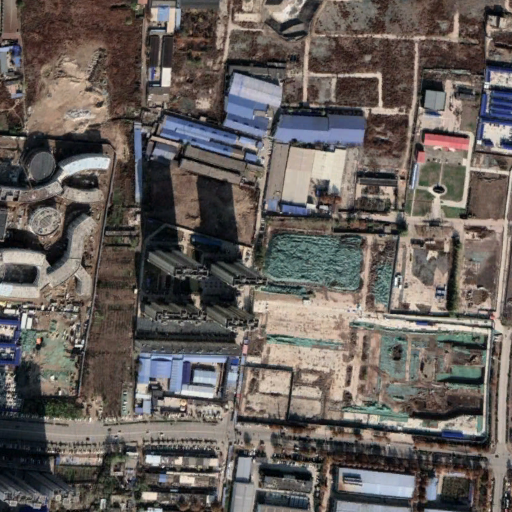cw: (345, 316, 488, 437), (257, 223, 394, 306), (12, 301, 84, 399)
